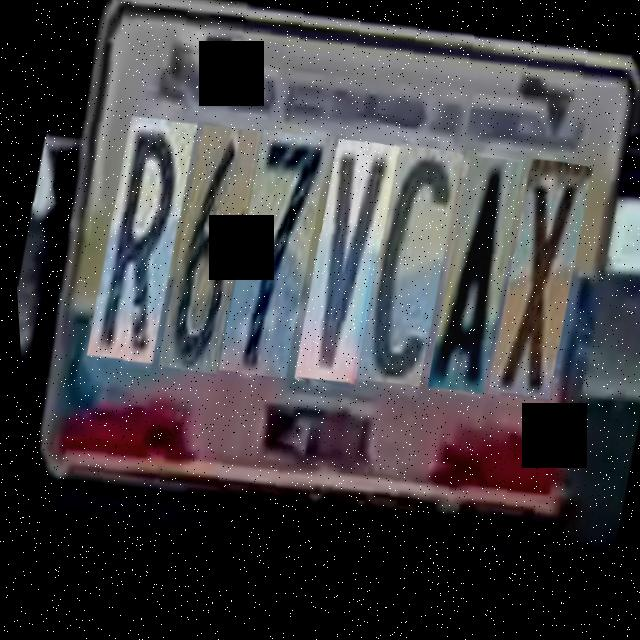6: (140, 120, 267, 380)
7: (201, 124, 336, 386)
A: (410, 151, 532, 402)
C: (338, 141, 468, 397)
R: (70, 110, 203, 370)
V: (278, 135, 406, 394)
X: (470, 157, 597, 409)
